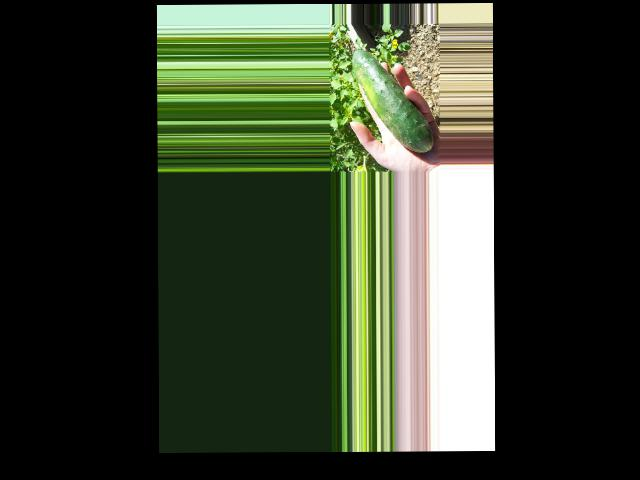cucumber: (352, 48, 433, 152)
